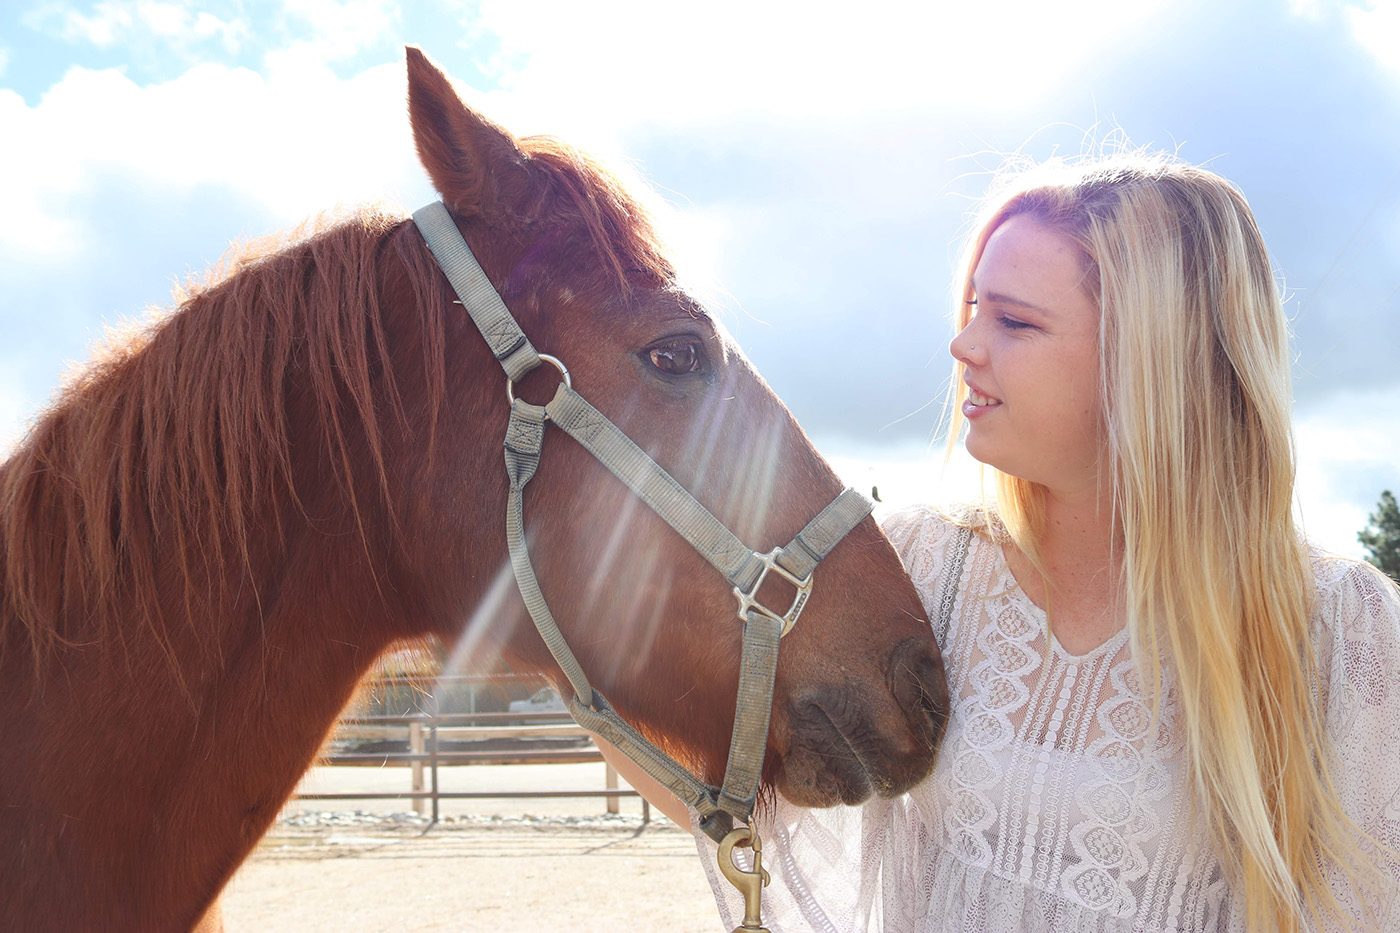Horse: (26, 99, 944, 933)
Person: (924, 165, 1352, 933)
